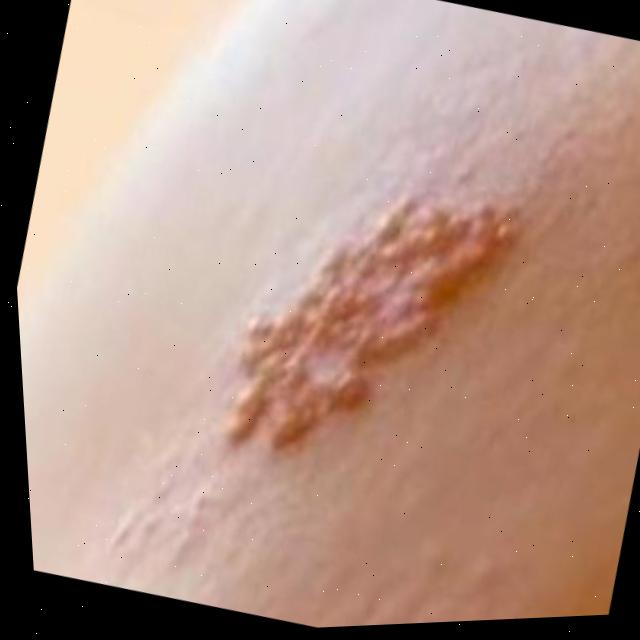Shingles: (207, 146, 538, 507)
